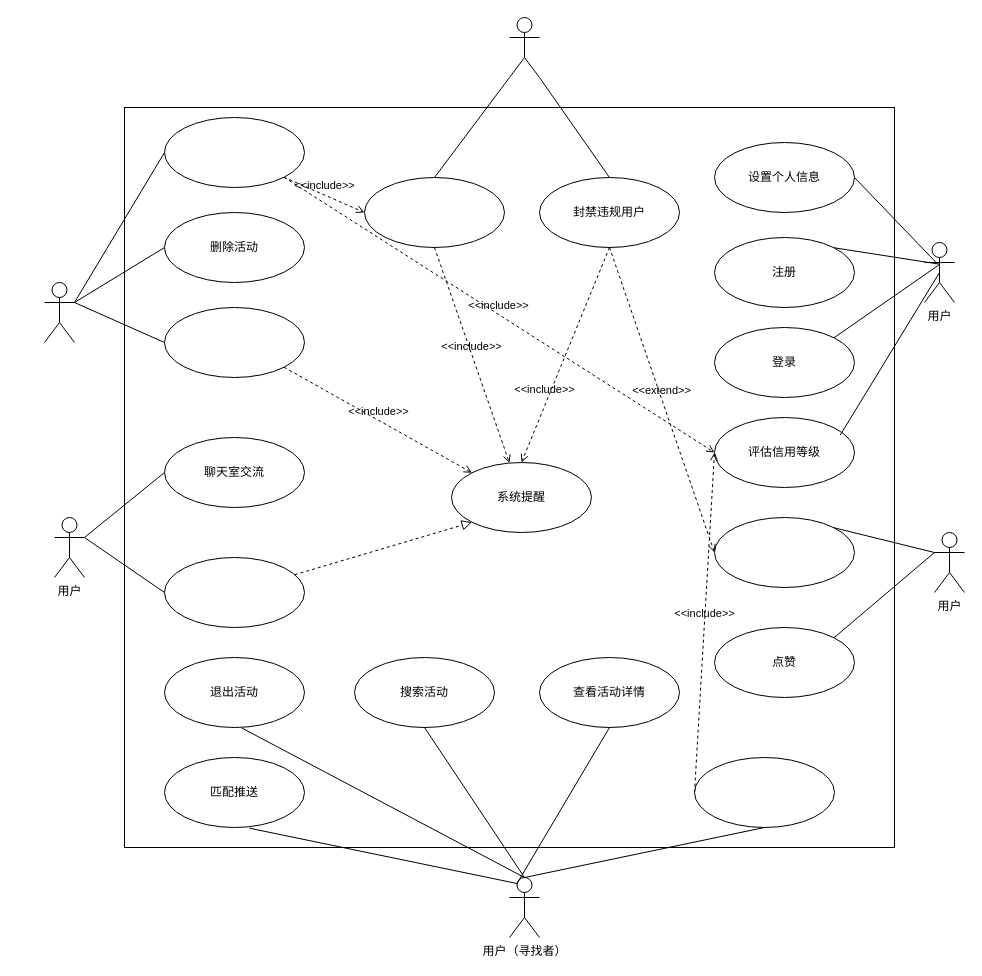
The diagram is 982 pixels wide and 976 high, and some of its shapes have lost their labels. The shapes that lost their labels are listed below. From the top down, each one's centre as x and y in pixels, then its label:
(x=524, y=47): 管理员
(x=234, y=152): 创建活动
(x=434, y=212): 审核活动
(x=59, y=312): 用户（创建者）
(x=234, y=342): 审批申请
(x=784, y=552): 举报
(x=234, y=592): 活动提醒
(x=764, y=792): 加入活动
